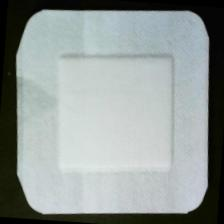Dressing: (1, 1, 222, 224)
